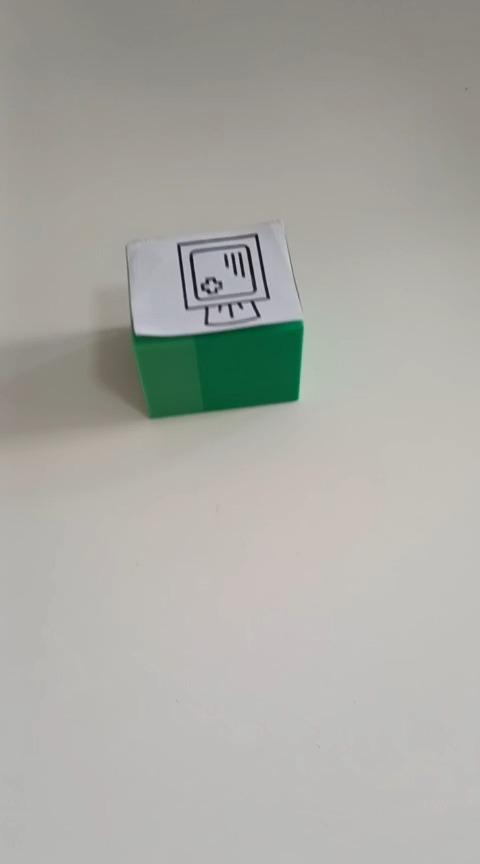Gauze: (124, 217, 305, 418)
